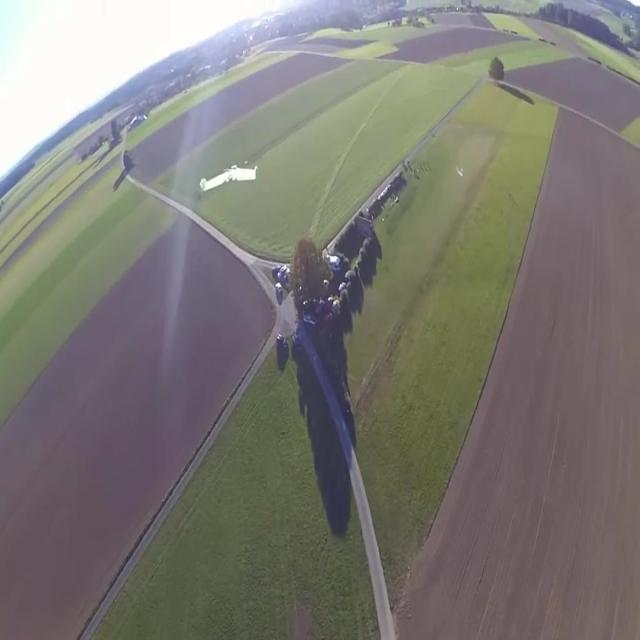iha: (200, 164, 256, 195)
